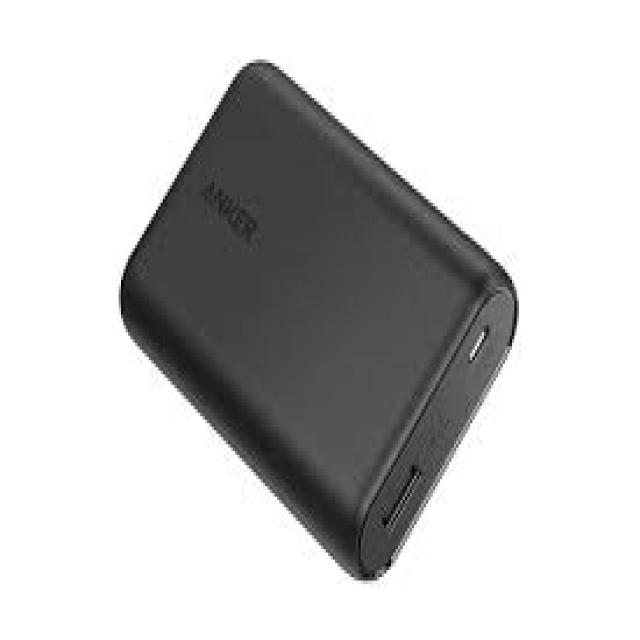power_bank: (114, 52, 519, 594)
